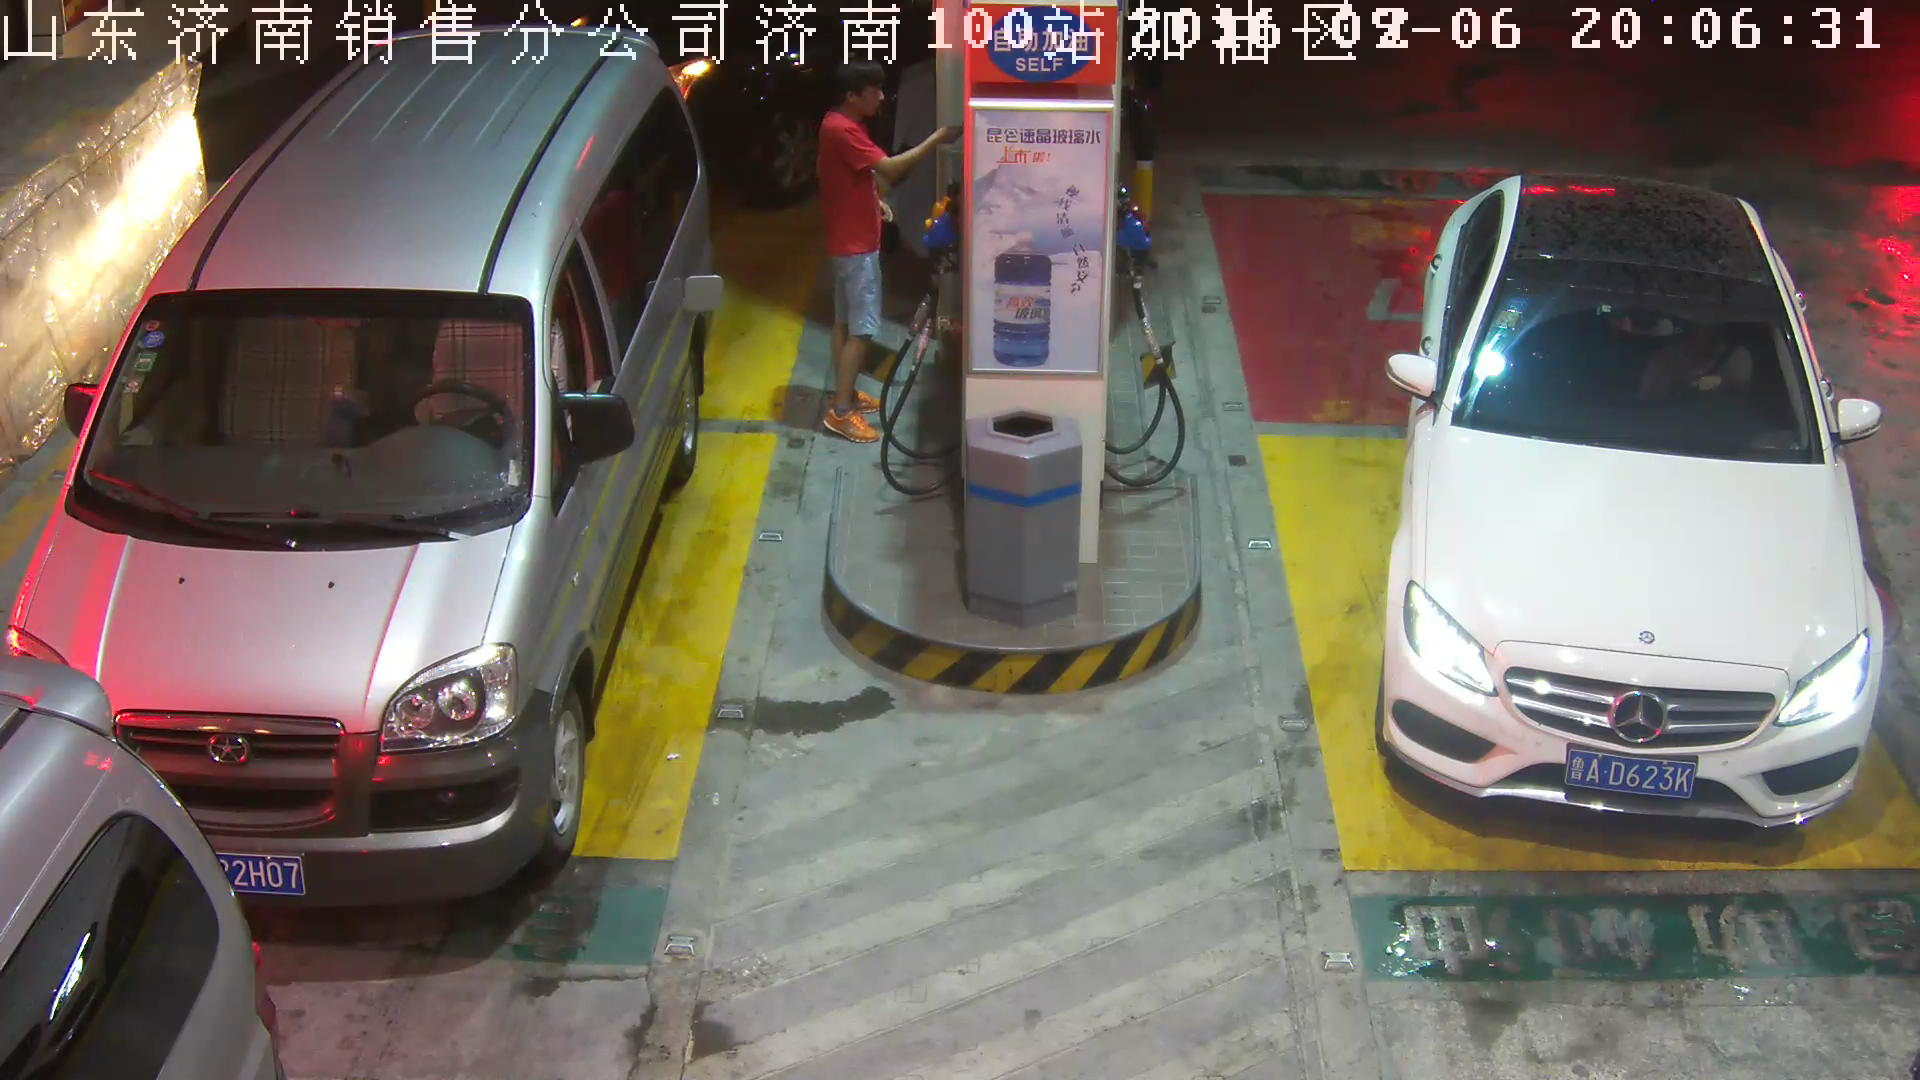blue: (1563, 748, 1700, 802)
